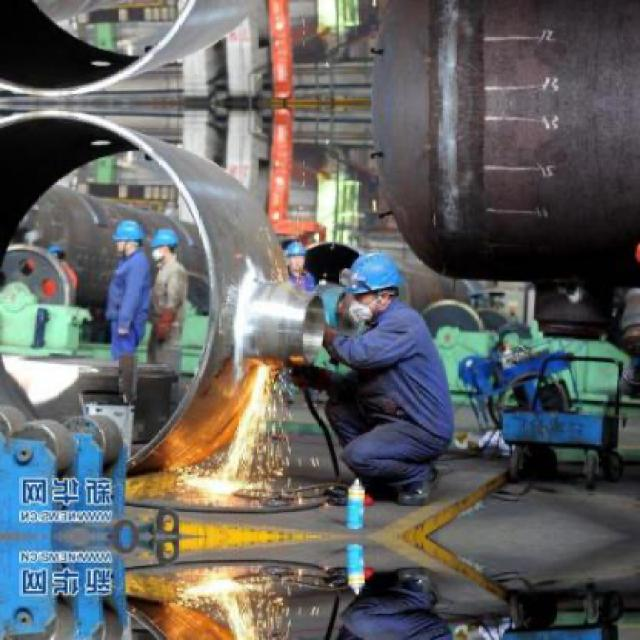helmet: (348, 256, 408, 316), (112, 216, 150, 257), (151, 226, 180, 264), (288, 239, 309, 270)
